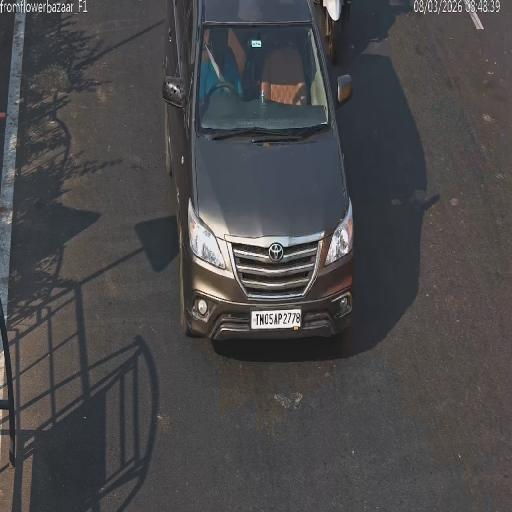person_with_seatbelt: (205, 38, 232, 90)
